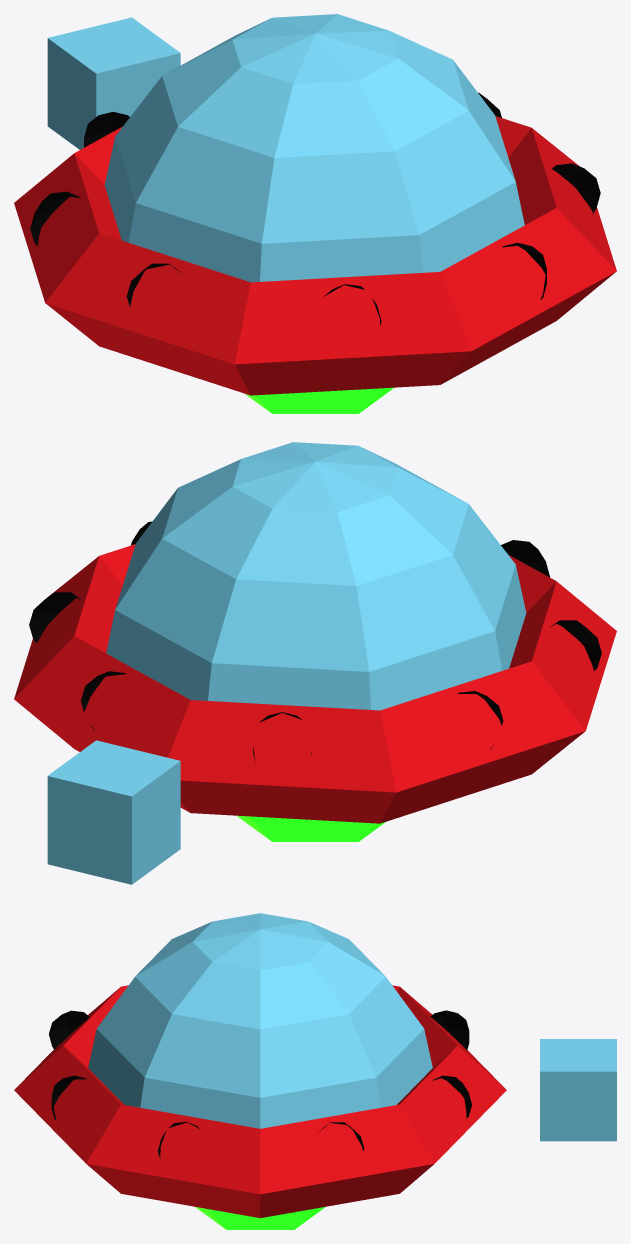
File: ufo2light.glb
3 renders of one model, top to bottom at view 1: azimuth 30°, elevation 25°; view 2: azimuth 150°, elevation 25°; view 3: azimuth 270°, elevation 25°, orthographic. The views are drawn at different scales.
Parts seen in each view (by area): view 1: Sphere; view 2: Sphere; view 3: Sphere.
Boxes of the visible parts, left/top/right/bottom form: Sphere: left=14, top=14, right=616, bottom=413; Sphere: left=14, top=442, right=616, bottom=884; Sphere: left=14, top=913, right=616, bottom=1229.
Bounding box in the file's own units: 1.57 × 1.03 × 1.92.
